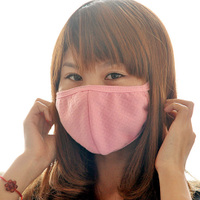face_mask: (53, 33, 145, 155)
